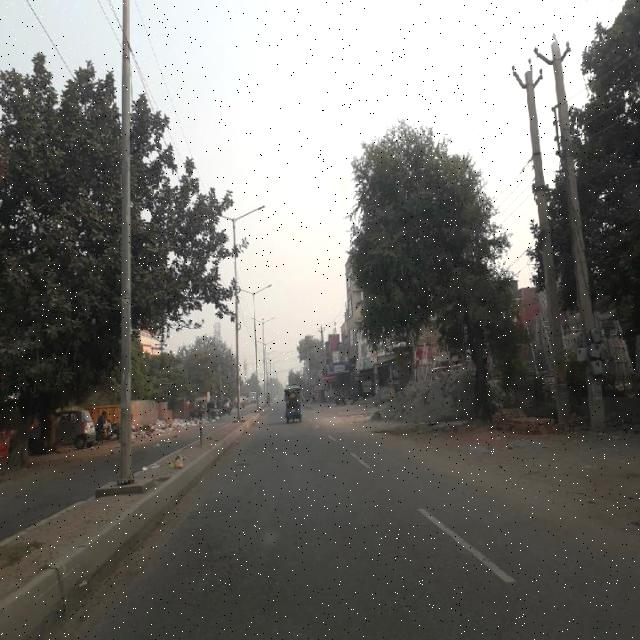D40: (196, 496, 262, 616)
